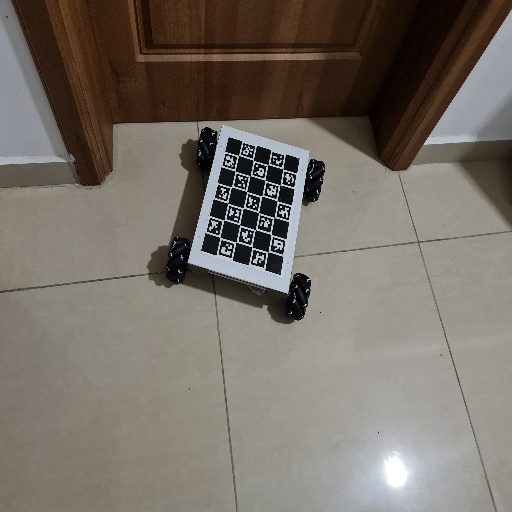Omniwheel: (165, 124, 327, 323)
